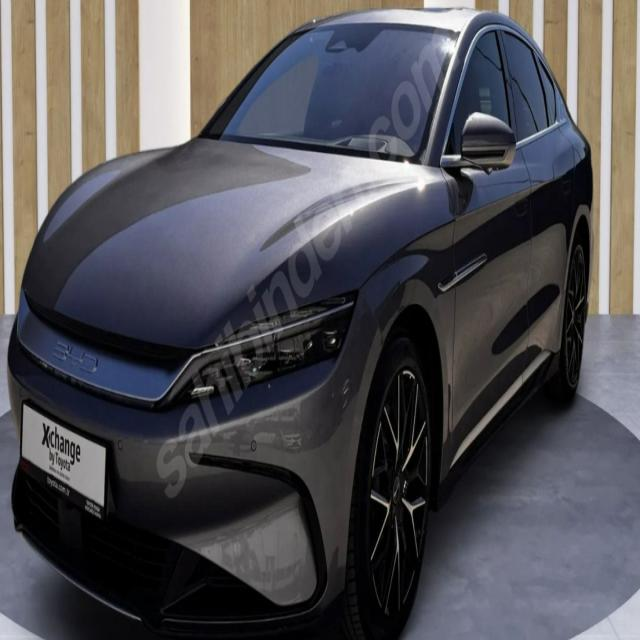byd: (54, 306, 101, 396)
